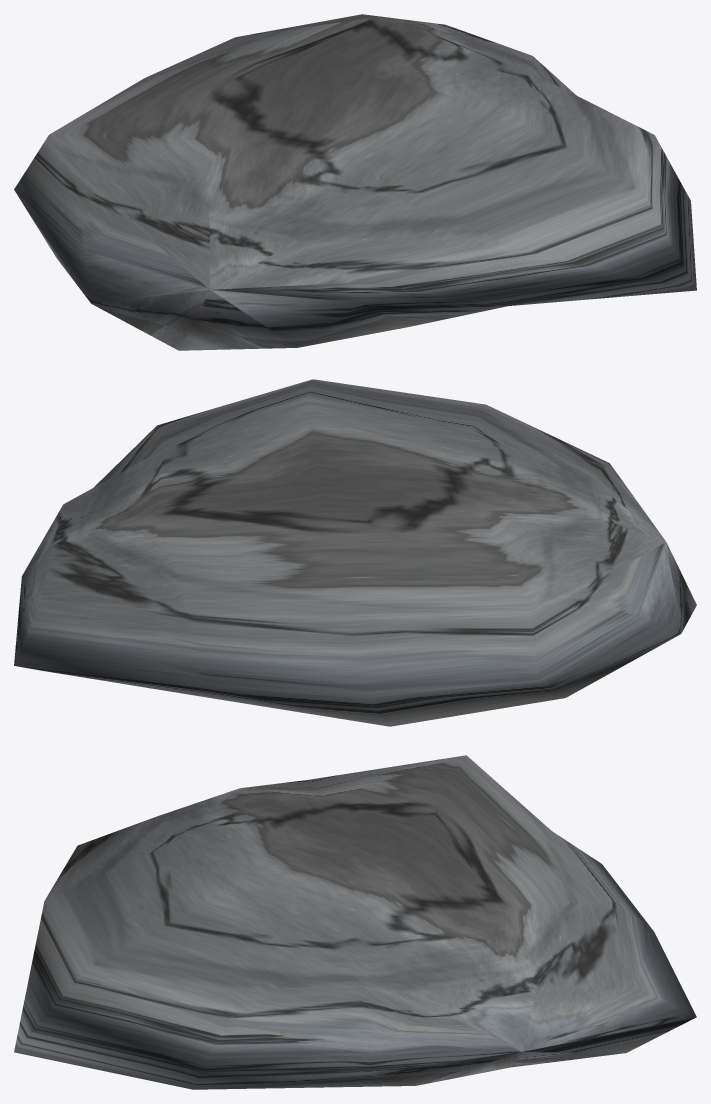
The model's file is rock_slab_l1.gltf.
The picture shows the model from 3 angles, top to bottom: view 1: azimuth 30°, elevation 25°; view 2: azimuth 150°, elevation 25°; view 3: azimuth 270°, elevation 25°; orthographic projection. The views are drawn at different scales.
Visible parts, largest first — view 1: rock_slab_l1; view 2: rock_slab_l1; view 3: rock_slab_l1.
Boxes of the visible parts, <box> form: rock_slab_l1: <box>14,14,696,350</box>; rock_slab_l1: <box>14,379,696,726</box>; rock_slab_l1: <box>14,755,696,1089</box>.
Bounding box in the file's own units: 2.02 × 0.4803 × 2.15.
1 material, 1 textured.
